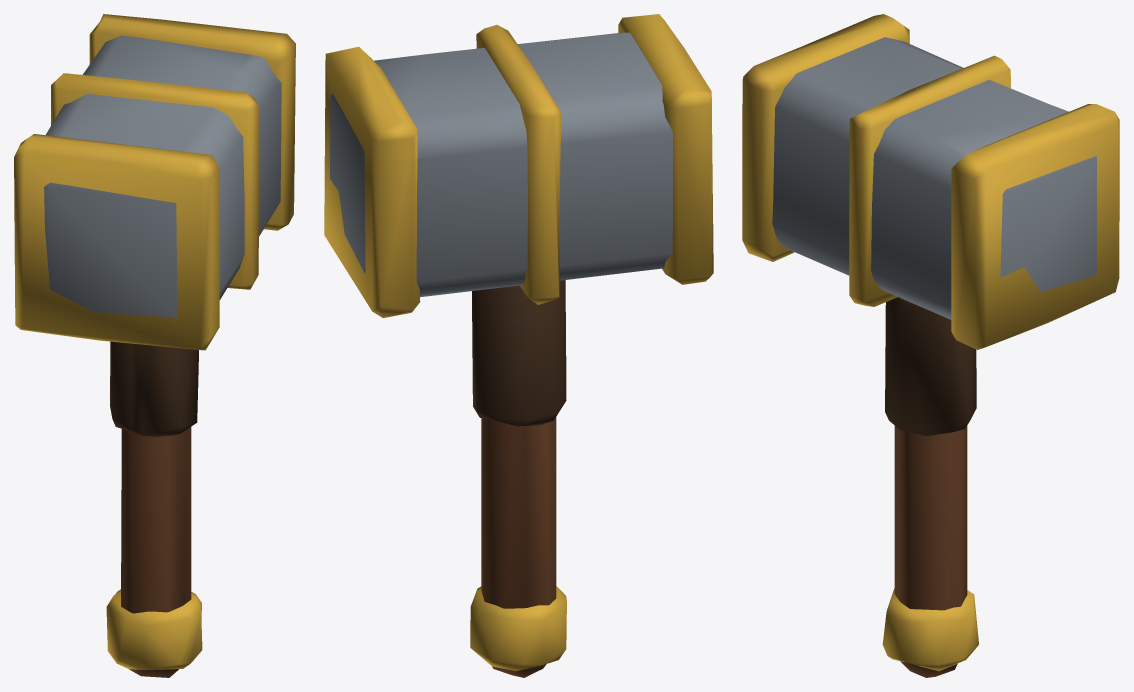
The model's file is guardian-hammer.glb.
The picture shows the model from 3 angles, left to right: view 1: azimuth 30°, elevation 25°; view 2: azimuth 150°, elevation 25°; view 3: azimuth 270°, elevation 25°; orthographic projection. The views are drawn at different scales.
Visible parts, largest first — view 1: hammer; view 2: hammer; view 3: hammer.
Part boxes in pixels (bbox=[...]): hammer: bbox=[14, 14, 295, 677]; hammer: bbox=[324, 14, 713, 677]; hammer: bbox=[742, 14, 1119, 677].
Size of the model in its own units: 0.1634 by 0.2816 by 0.1635.
Materials: 1 (1 with a texture image).
